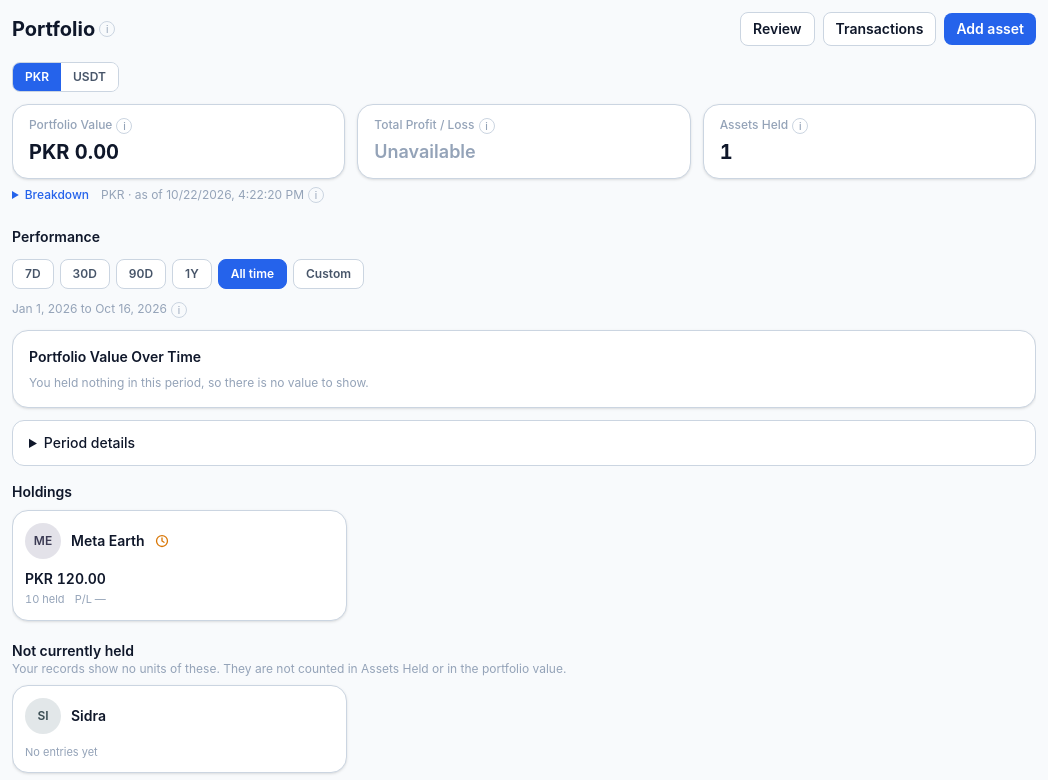
Test: Review center › a price from the latest RupChain trade that is old is a note, not a task: it updates by itself
Click the button "Review" at [777, 29], box [740,12,815,46]
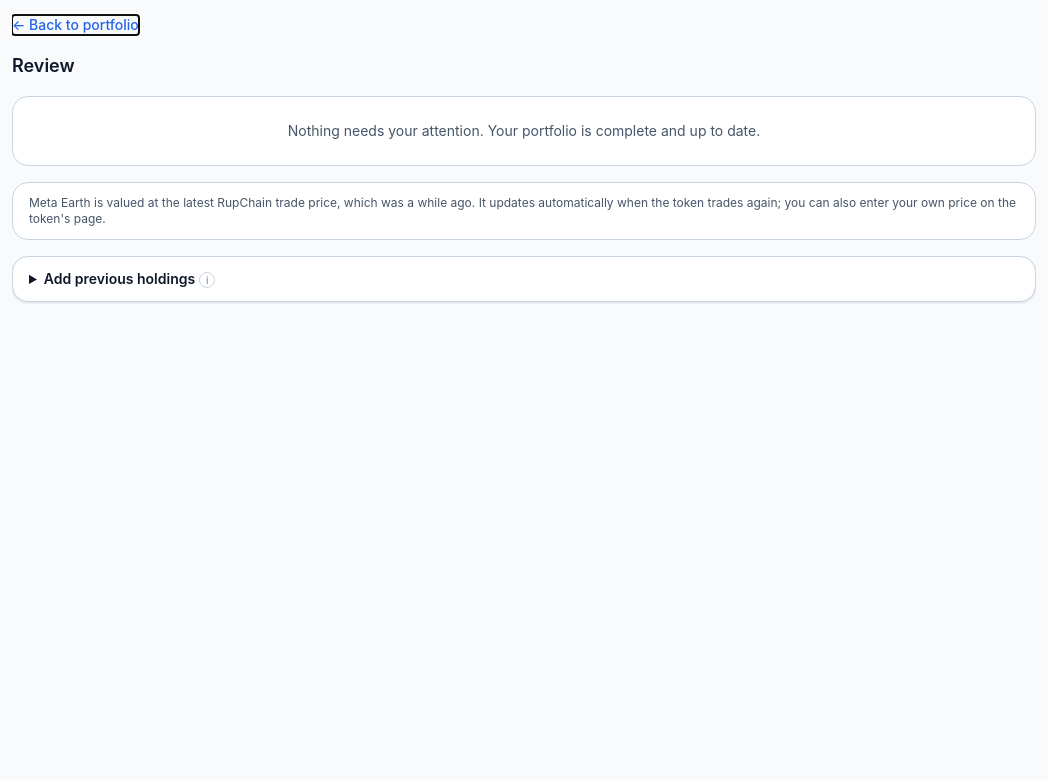
Result: the text "Meta Earth is valued at the latest RupChain trade price, which was a while ago" is shown at [29,195,1016,226]
Result: the text "Nothing needs your attention. Your portfolio is complete and up to date." is shown at [12,96,1036,166]
